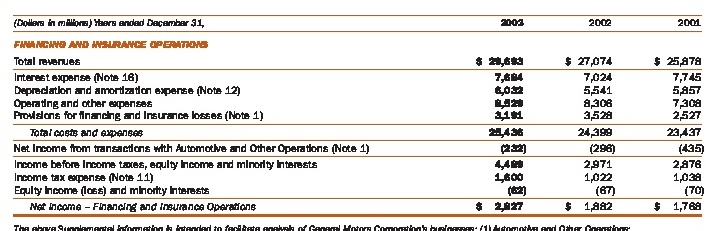table: (0, 0, 719, 231)
